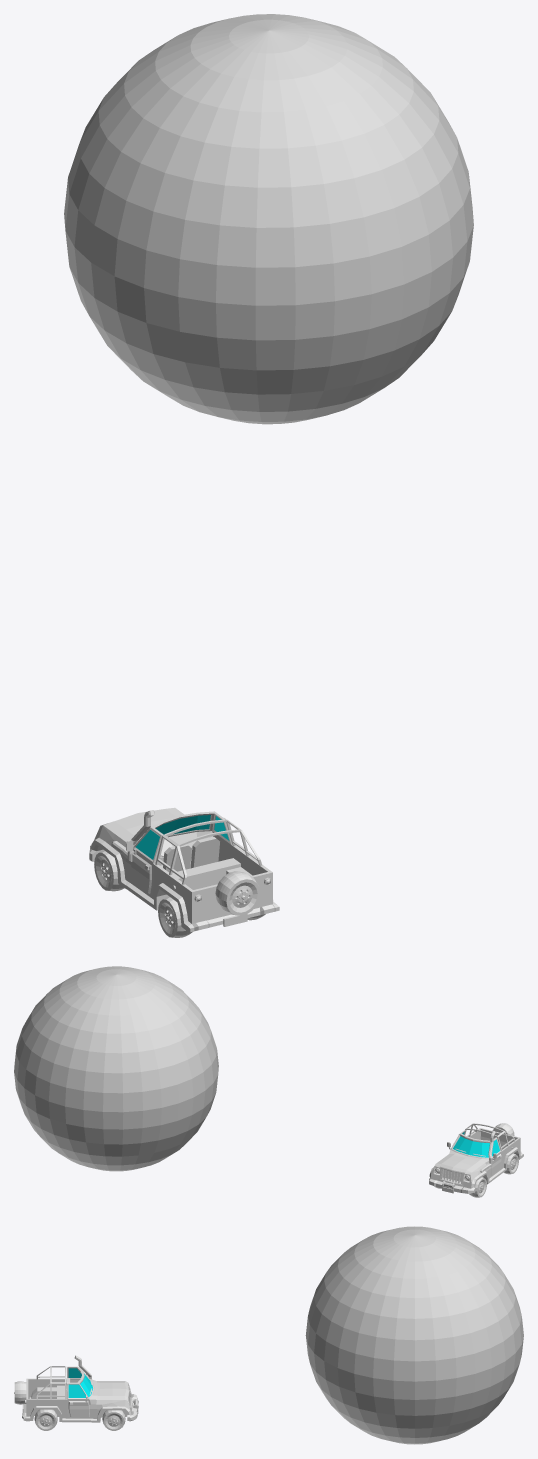
File: Jeep_4_.fbx
3 views of the same model, one above another, from view 1: azimuth 30°, elevation 25°; view 2: azimuth 150°, elevation 25°; view 3: azimuth 270°, elevation 25° (orthographic). The views are drawn at different scales.
Visible parts, largest first — view 1: Cube.008, Cube.000; view 2: Cube.008, Cube.000; view 3: Cube.008, Cube.000.
Boxes of the visible parts, left/top/right/bottom form: Cube.008: left=64, top=14, right=473, bottom=424; Cube.000: left=89, top=807, right=279, bottom=937; Cube.008: left=14, top=966, right=218, bottom=1171; Cube.000: left=429, top=1123, right=523, bottom=1197; Cube.008: left=305, top=1226, right=523, bottom=1444; Cube.000: left=14, top=1355, right=138, bottom=1430.
Size of what is drawn, in the model's own units: 388 by 320 by 512.
